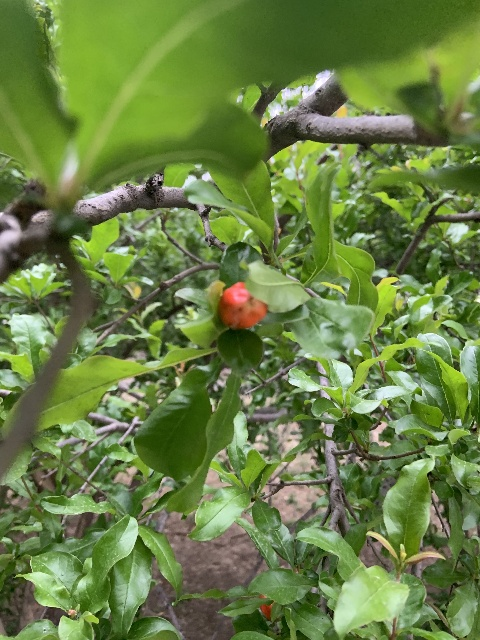bud: (217, 281, 267, 329), (258, 596, 274, 620)
